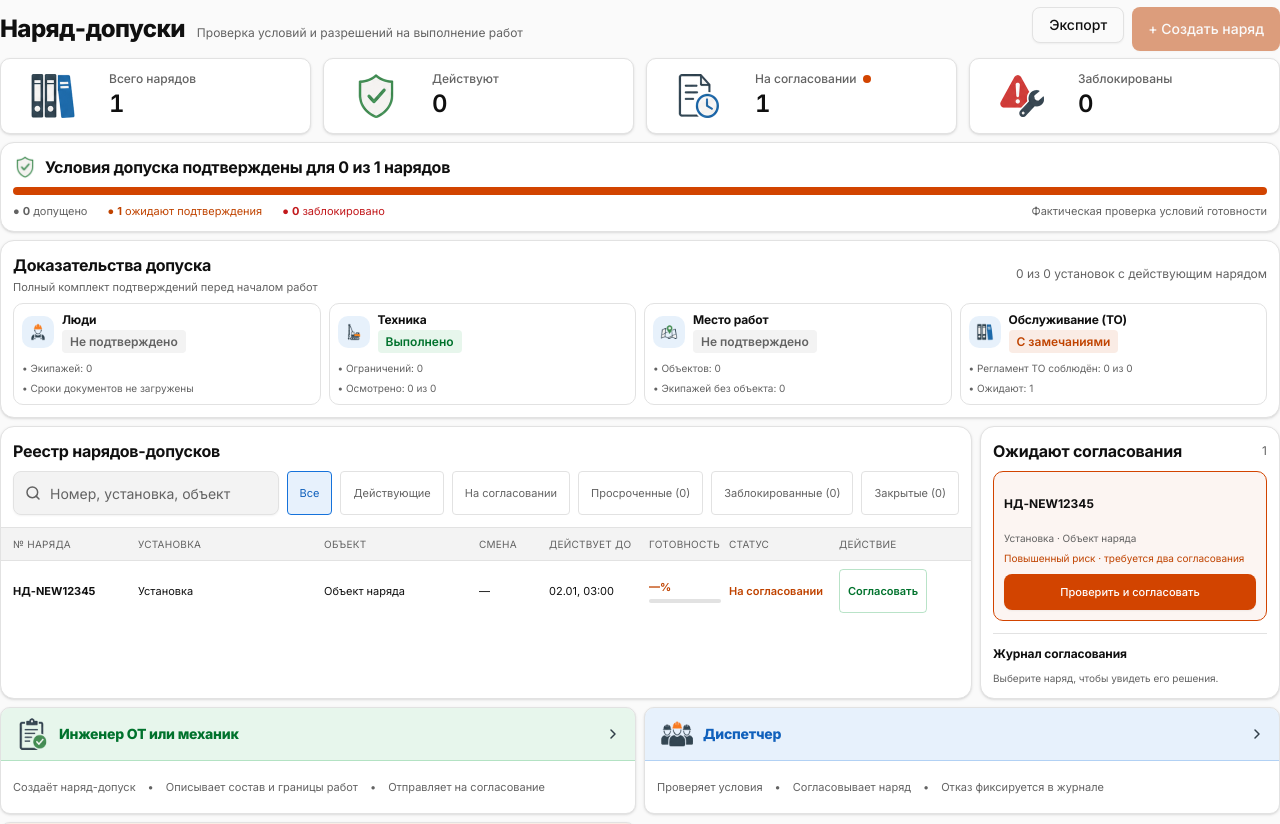
Test: показывает содержание и фактические требования в окне согласования
Step 1. Click the button "Проверить и согласовать" → (1130, 592), box [1004,574,1256,610]
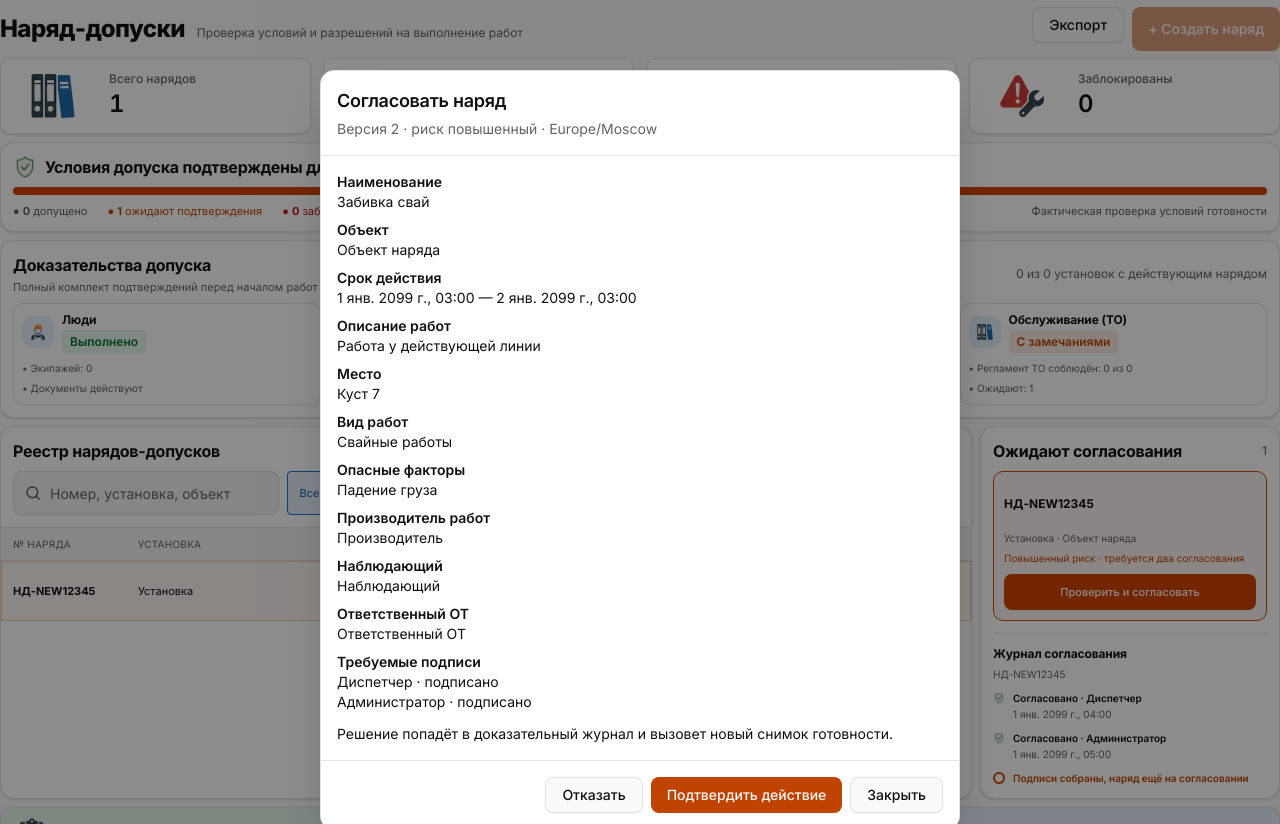
Now the text "Забивка свай" is shown, box [337,193,430,210]
Now the text "Работа у действующей линии" is shown, box [337,337,541,354]
Now the list item "Падение груза" is shown, box [337,481,437,498]
